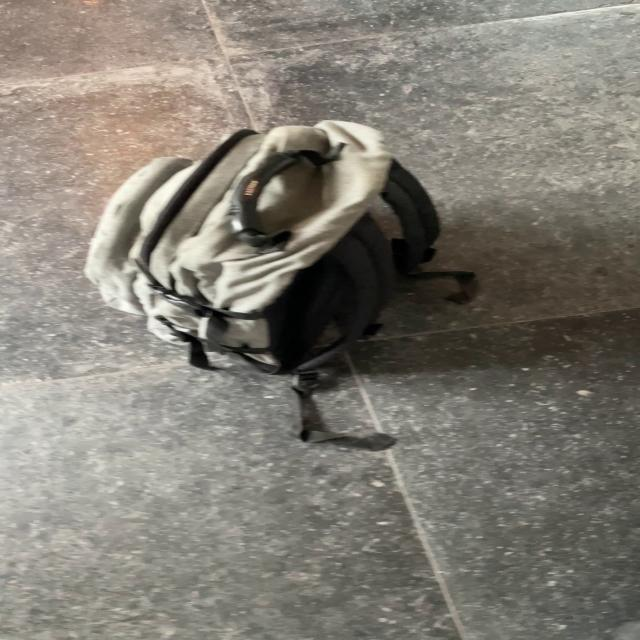backpack: (73, 112, 447, 377)
